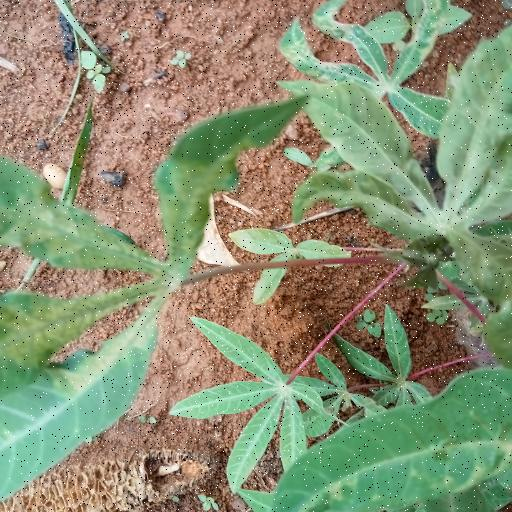Cassava_Mosaic: (0, 97, 306, 471), (310, 41, 512, 319)
